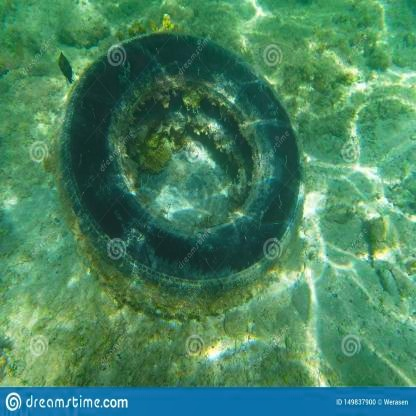tire: (65, 33, 337, 355)
